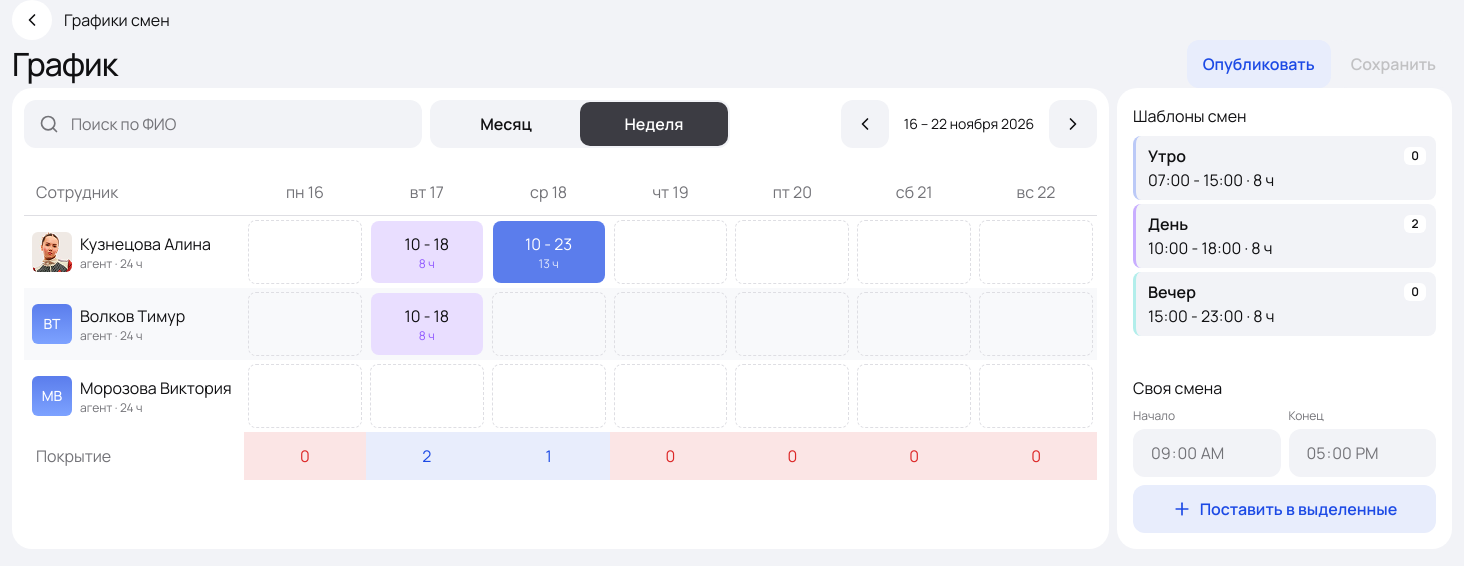
Test: SchedulePage: назначение смен › своя смена во все выделенные ячейки
The width and height of the screenshot is (1464, 566).
Expected: the table is shown, x1=24 y1=168 x2=1097 y2=537
Click the cell named "Морозова Виктория, чт 19: нет смены": x=671, y=396 x1=610 y1=360 x2=732 y2=432
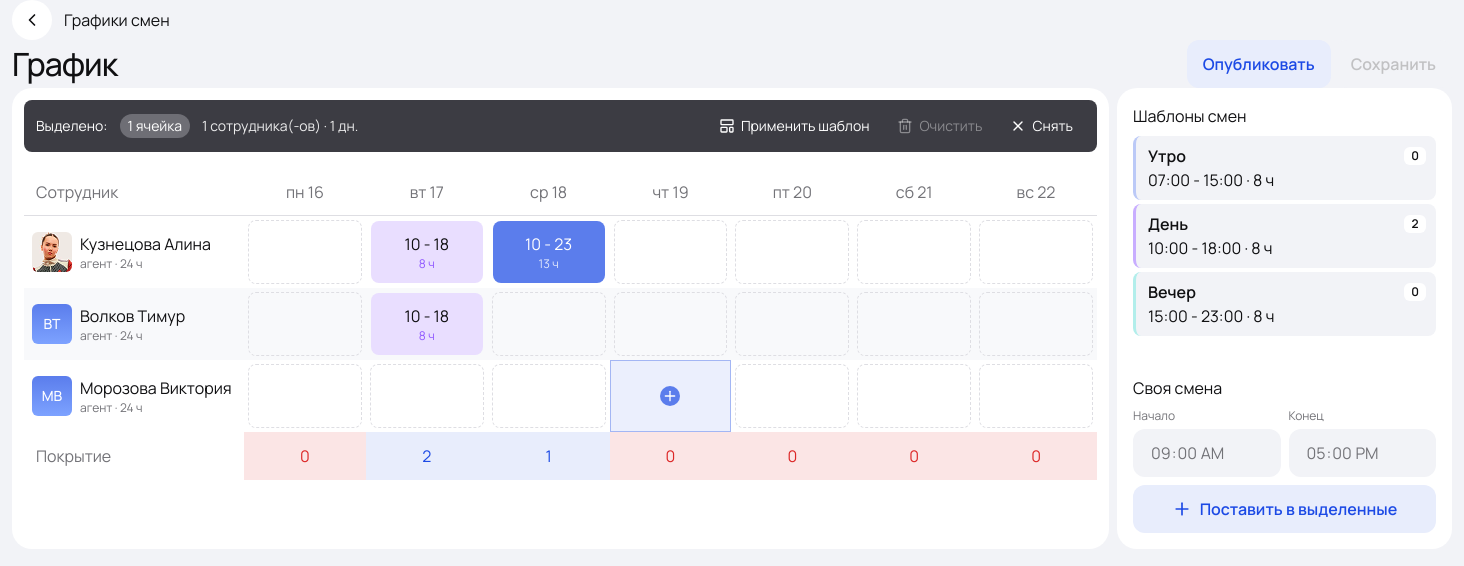
Press the mouse on the cell named "Морозова Виктория, пт 20: нет смены": x=792, y=396 x1=731 y1=360 x2=853 y2=432
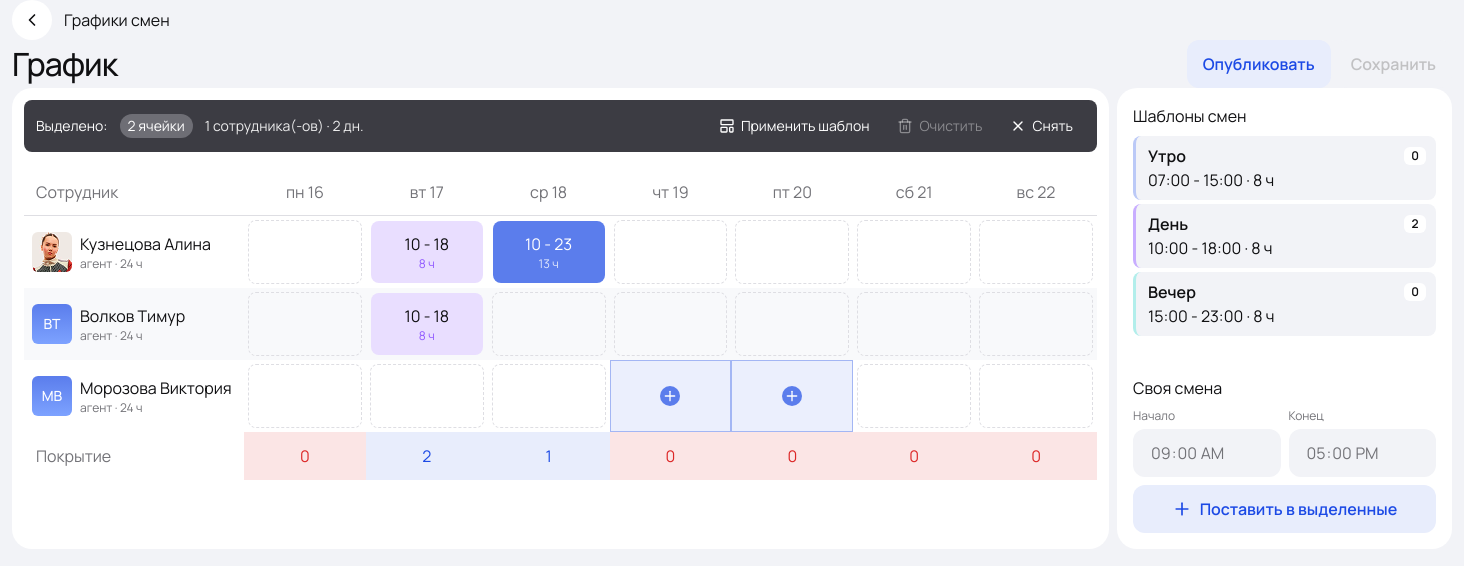
Replace the text in the time field labelled "Начало" with "08:30": x=1207, y=453 x1=1133 y1=429 x2=1280 y2=477
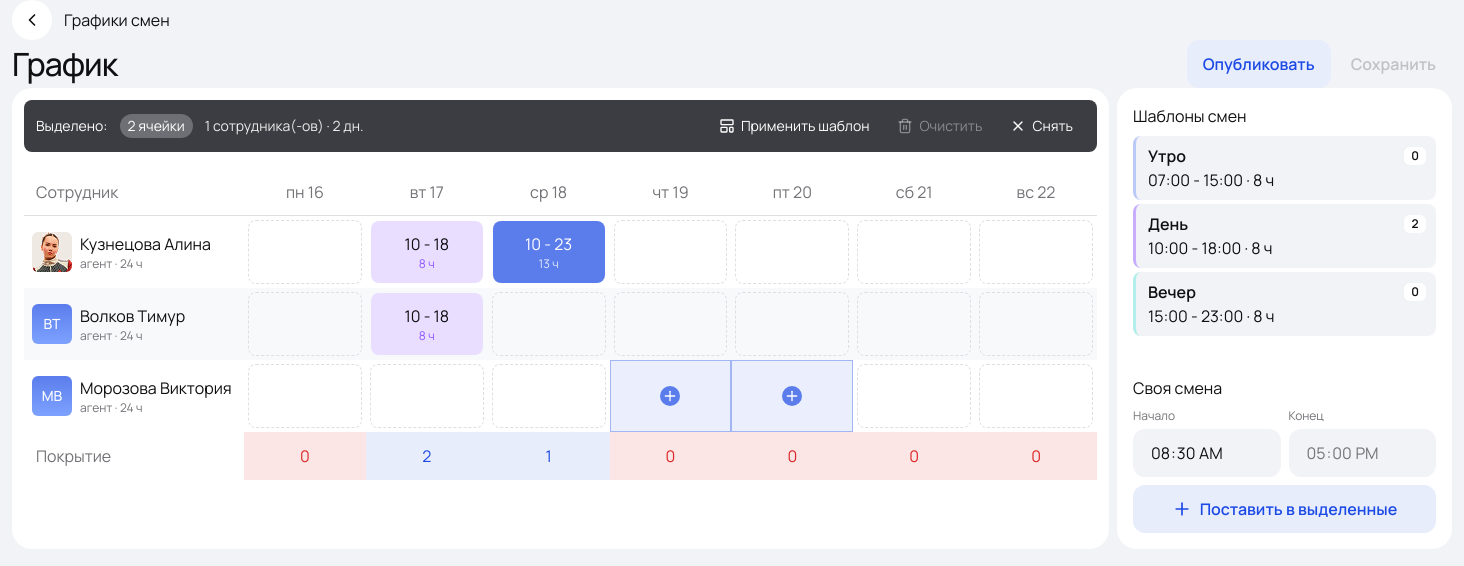
Replace the text in the time field labelled "Конец" with "13:00": x=1362, y=453 x1=1288 y1=429 x2=1436 y2=477
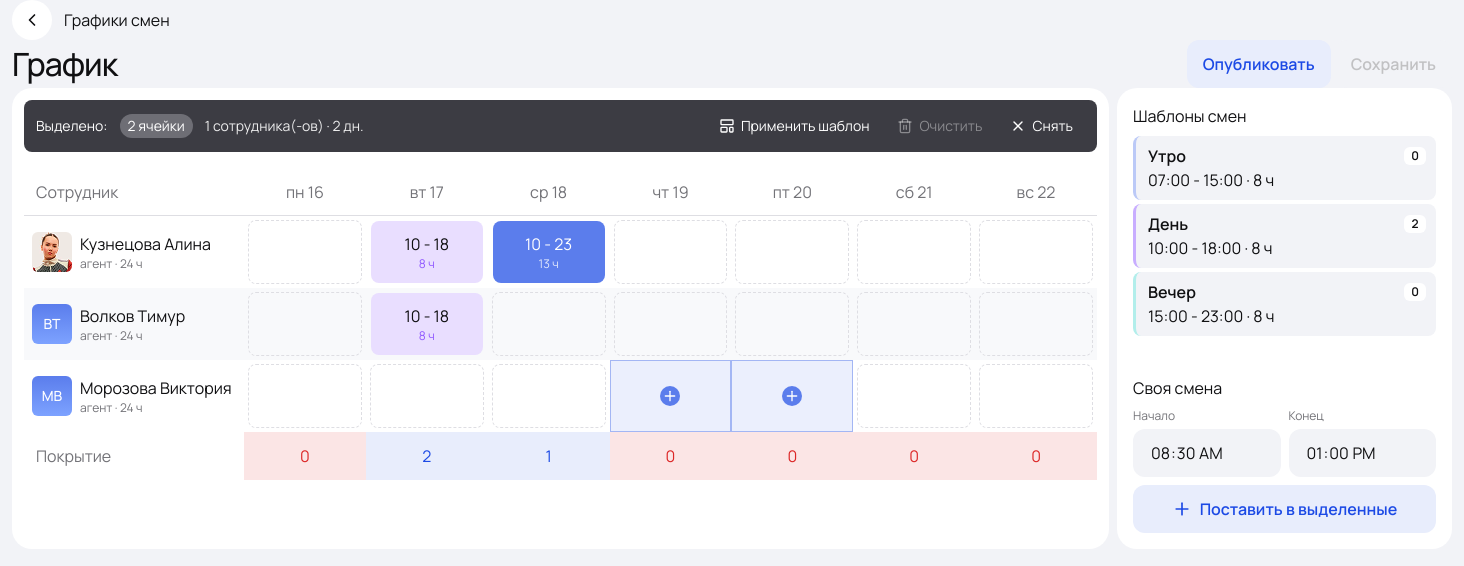
Click the button "Поставить в выделенные": x=1284, y=509 x1=1133 y1=485 x2=1436 y2=533
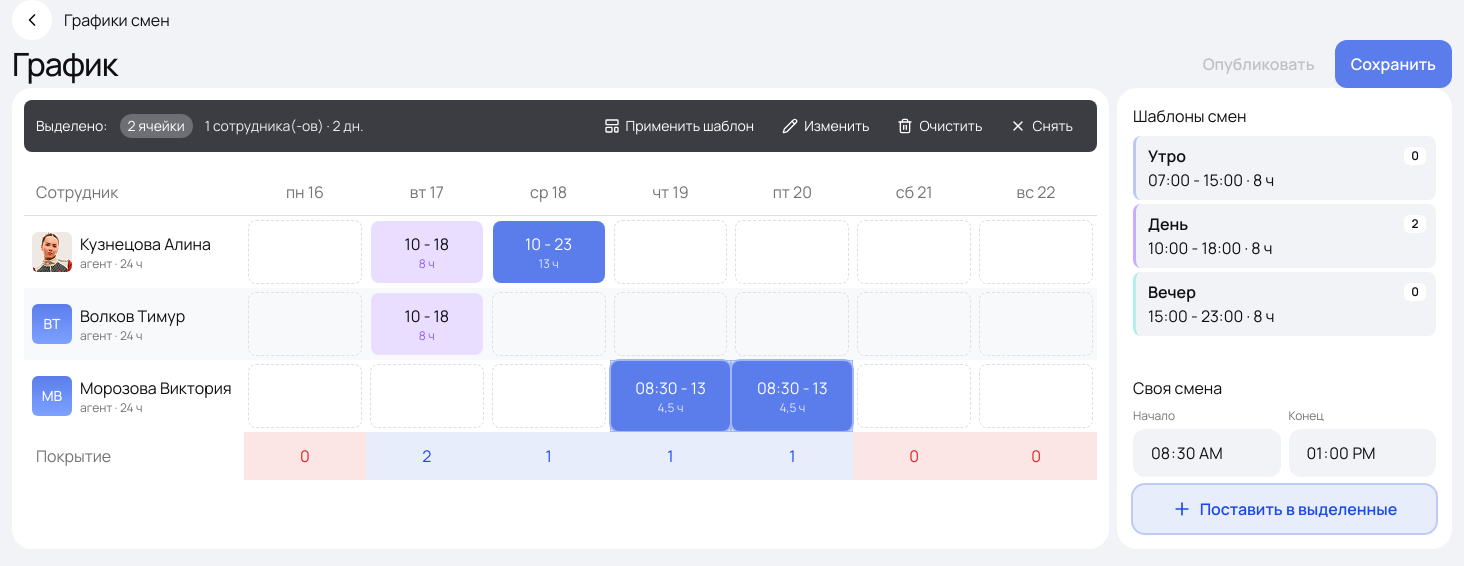
Now the 2nd text "08:30 - 13" is shown, box x1=757 y1=376 x2=828 y2=400
Now the cell named "Покрытие 2026-11-19: 1" is shown, box x1=610 y1=432 x2=732 y2=480
Now the cell named "Покрытие 2026-11-20: 1" is shown, box x1=731 y1=432 x2=853 y2=480
